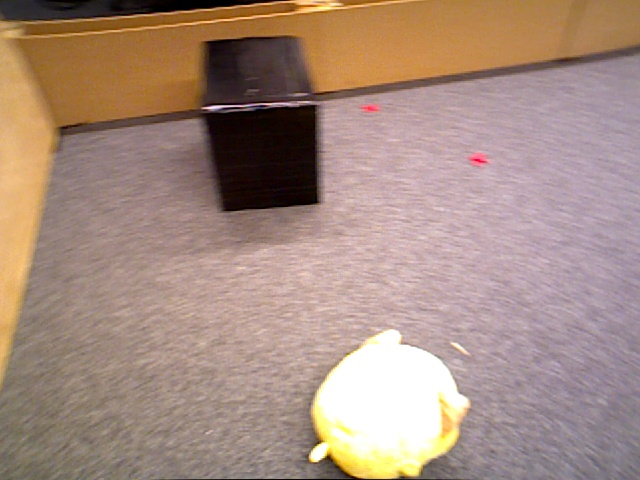grasp: (310, 346, 464, 479)
push: (200, 35, 320, 215)
